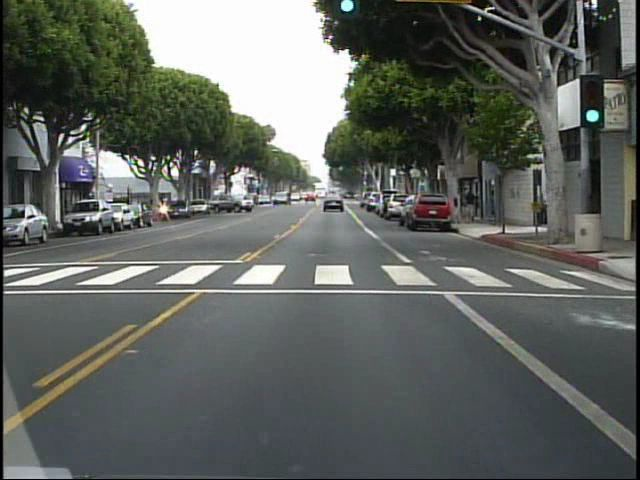person: (462, 184, 483, 224)
